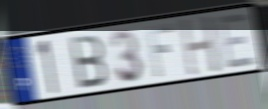1: (36, 38, 59, 96)
3: (109, 27, 145, 85)
B: (67, 32, 109, 91)
E: (216, 11, 258, 72)
F: (144, 23, 174, 79)
H: (178, 14, 223, 78)
